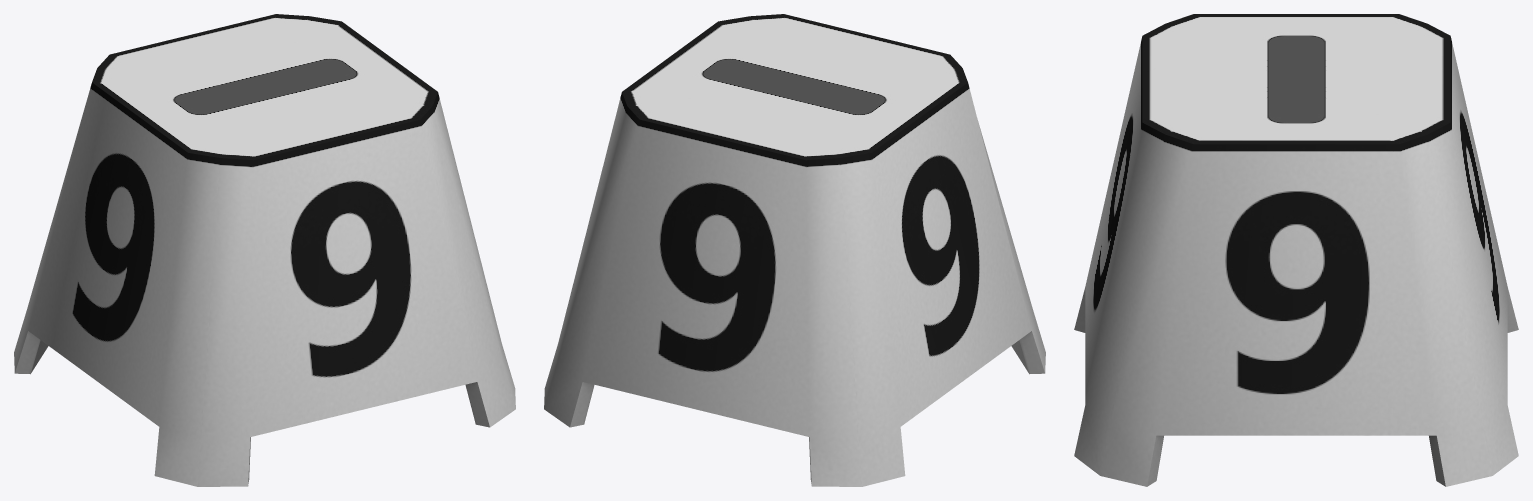
3 renders of one model, left to right at view 1: azimuth 30°, elevation 25°; view 2: azimuth 150°, elevation 25°; view 3: azimuth 270°, elevation 25°, orthographic. The views are drawn at different scales.
Visible parts, largest first — view 1: No_9_Box; view 2: No_9_Box; view 3: No_9_Box.
Part boxes in pixels (bbox=[...]): No_9_Box: bbox=[14, 14, 515, 486]; No_9_Box: bbox=[544, 14, 1045, 486]; No_9_Box: bbox=[1074, 14, 1518, 486].
Size of the model in its own units: 0.4097 by 0.319 by 0.4097.
1 material, 1 textured.
